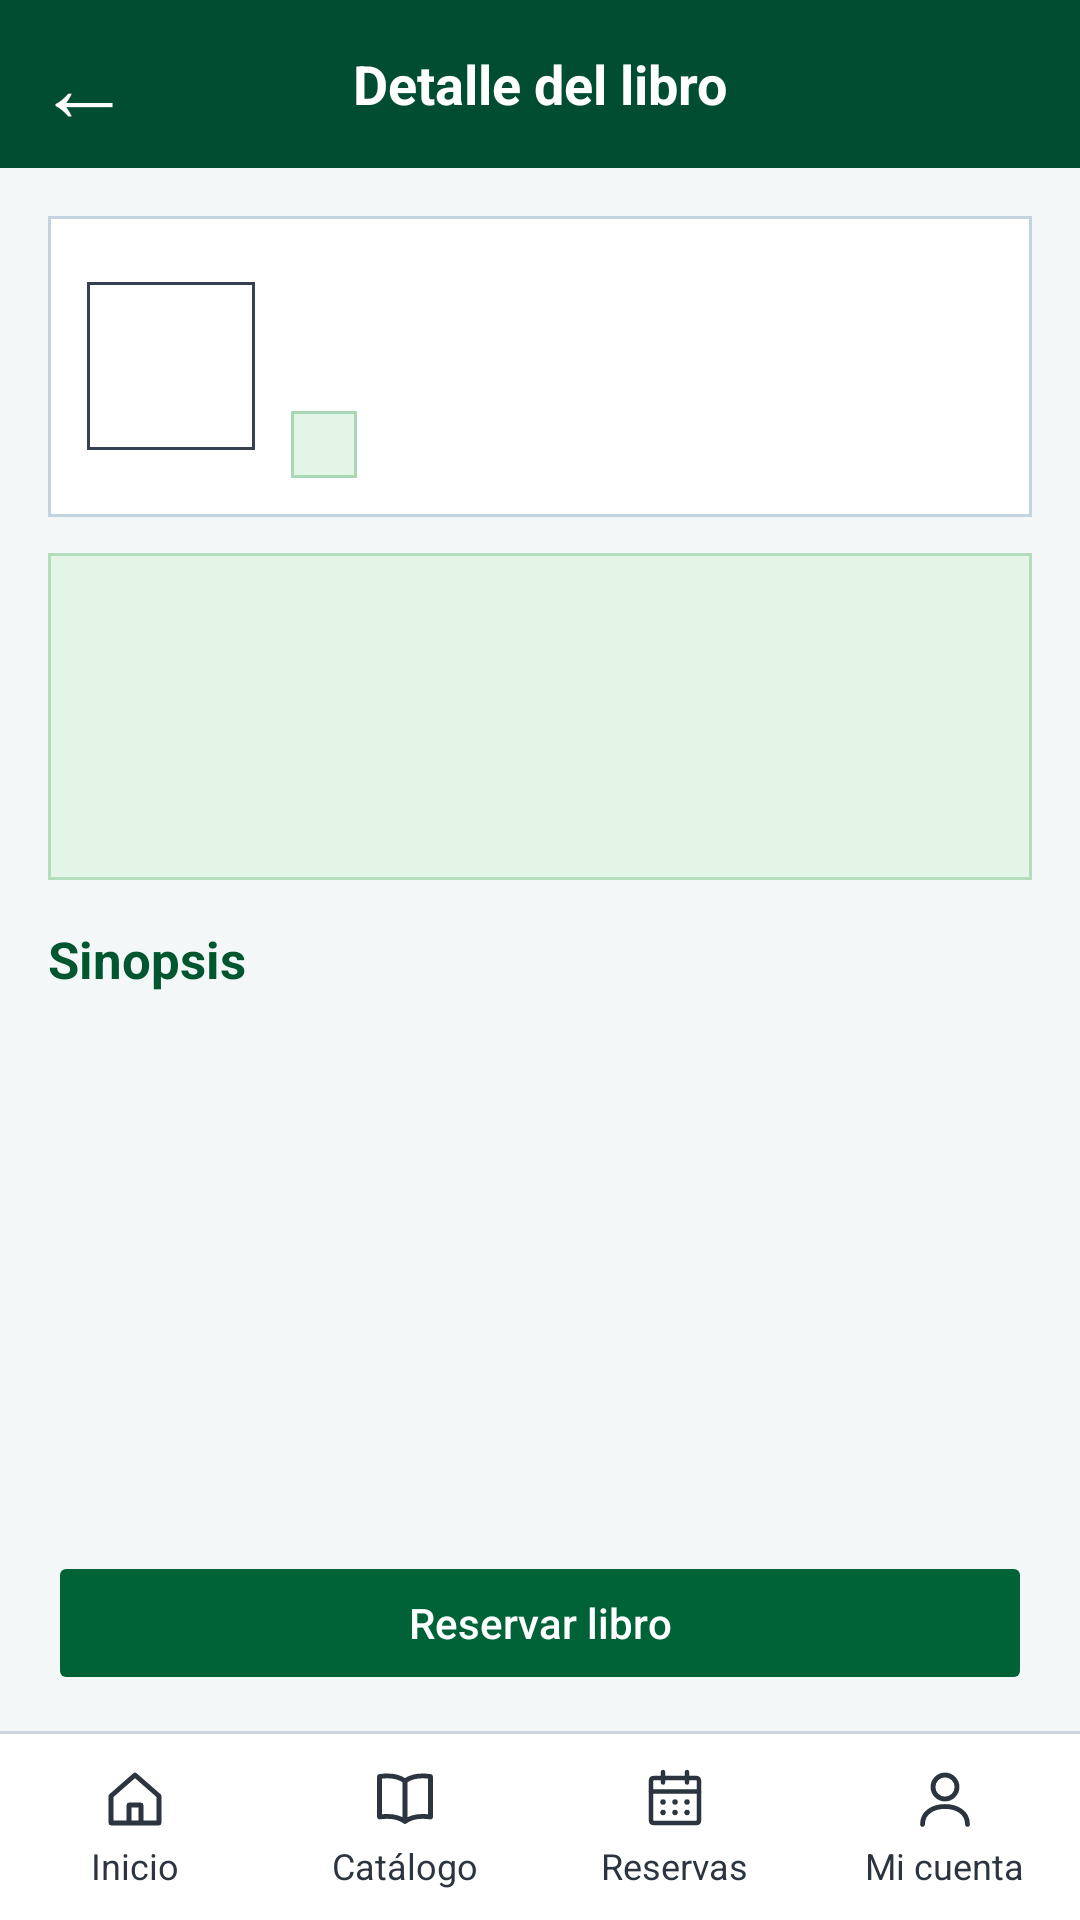

Icon click points for this 1080 × 1920 phone screenshot, format (x,y):
cbta calendario: (675,1797)
